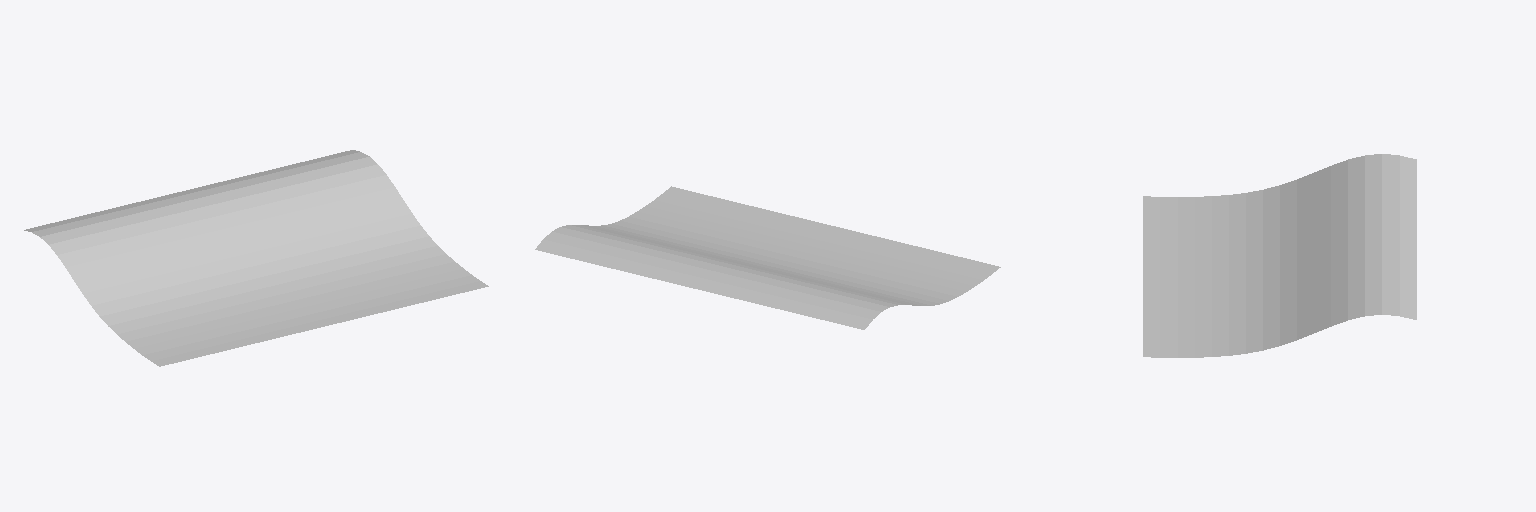
The model's file is Olas3.obj.
The picture shows the model from 3 angles: view 1: azimuth 30°, elevation 25°; view 2: azimuth 150°, elevation 25°; view 3: azimuth 270°, elevation 25°; orthographic projection.
Parts seen in each view (by area): view 1: Plane; view 2: Plane; view 3: Plane.
Part boxes in pixels (left/top/right/bottom): Plane: left=24, top=150, right=488, bottom=366; Plane: left=535, top=186, right=1000, bottom=329; Plane: left=1143, top=154, right=1416, bottom=357.
Bounding box in the file's own units: 13.82 × 1.74 × 9.91.